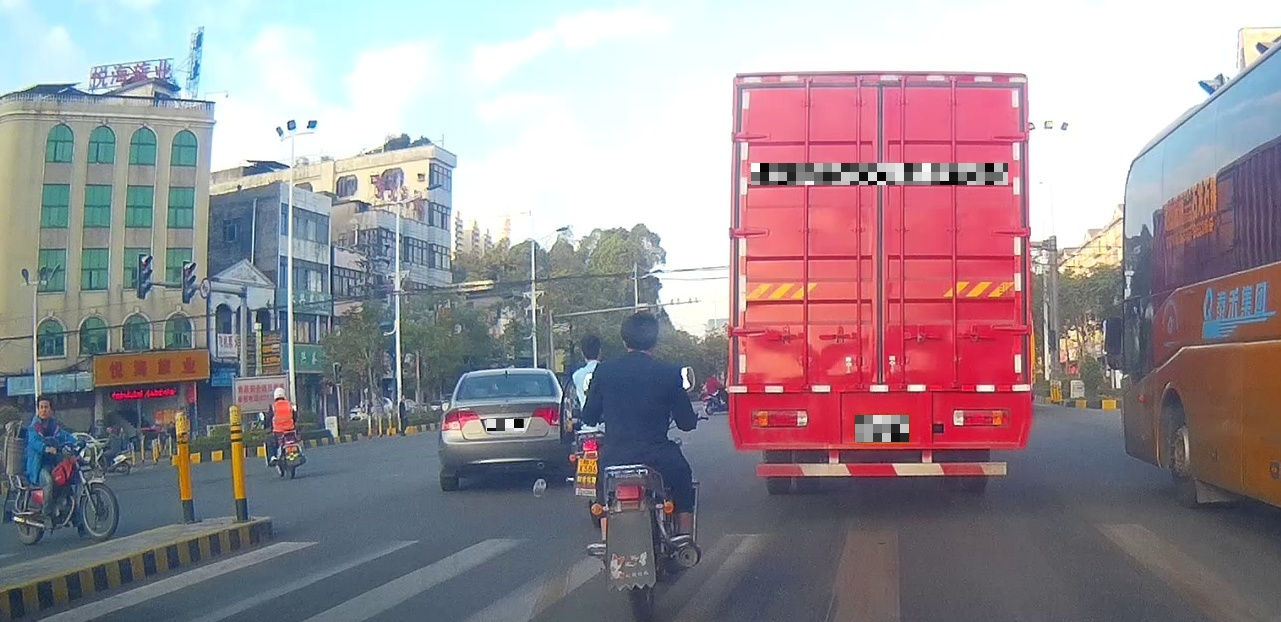L_light: (750, 409, 809, 428), (441, 410, 480, 430)
R_light: (951, 408, 1010, 427), (531, 406, 561, 426)
T_light: (859, 85, 905, 103), (500, 375, 518, 380)
day-left: (438, 368, 564, 491)
day-no: (725, 70, 1034, 495)
plate_1: (487, 419, 524, 431)
plate_2: (751, 163, 1008, 185)
plate_3: (855, 415, 909, 442)
